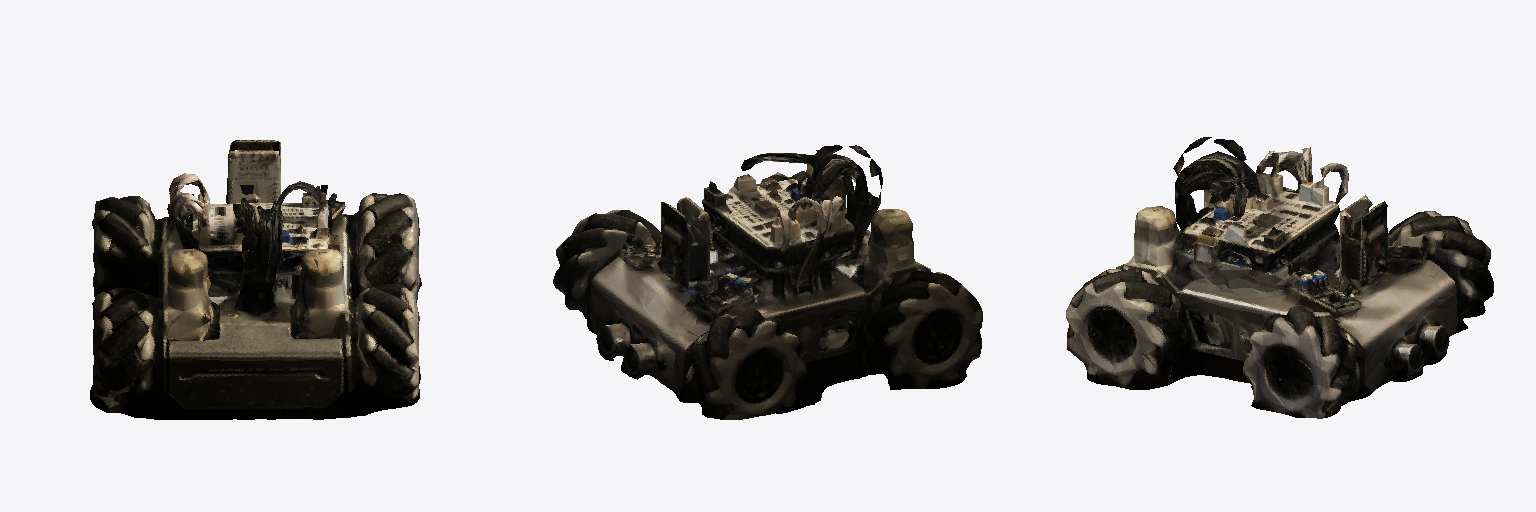
3 views of the same model, side by side, from view 1: azimuth 30°, elevation 25°; view 2: azimuth 150°, elevation 25°; view 3: azimuth 270°, elevation 25° (orthographic).
Visible parts, largest first — view 1: 3DModel_LowPoly; view 2: 3DModel_LowPoly; view 3: 3DModel_LowPoly.
Part boxes in pixels (x1,y1,x2,y2): 3DModel_LowPoly: (90, 140, 421, 419); 3DModel_LowPoly: (553, 145, 982, 419); 3DModel_LowPoly: (1066, 137, 1493, 418).
Size of the model in its own units: 3.73 by 1.85 by 3.72.
Materials: 1 (1 with a texture image).